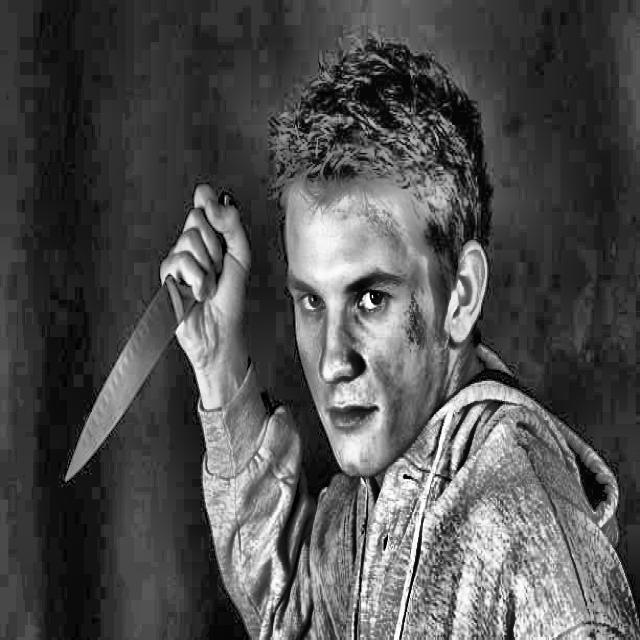pisau: (60, 166, 265, 488)
